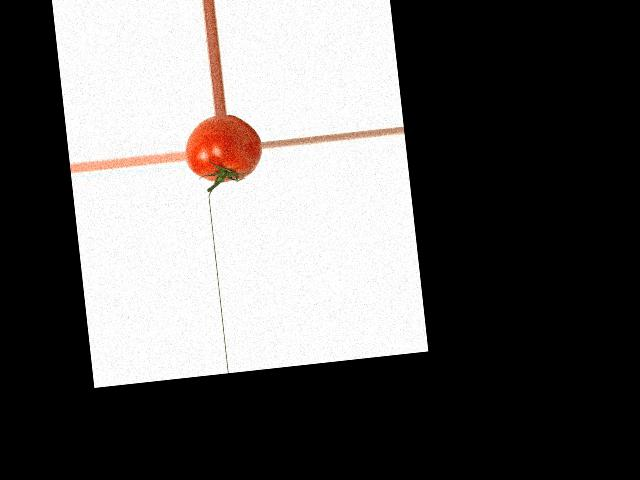tomato: (182, 112, 265, 186)
